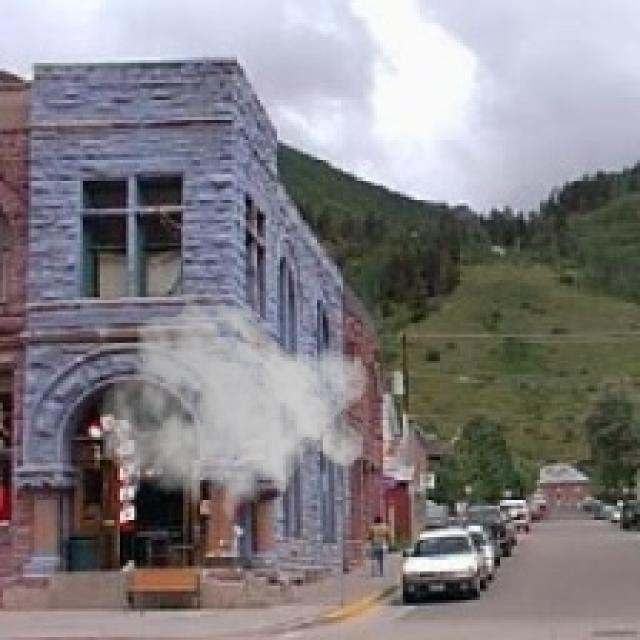smoke: (97, 288, 372, 532)
